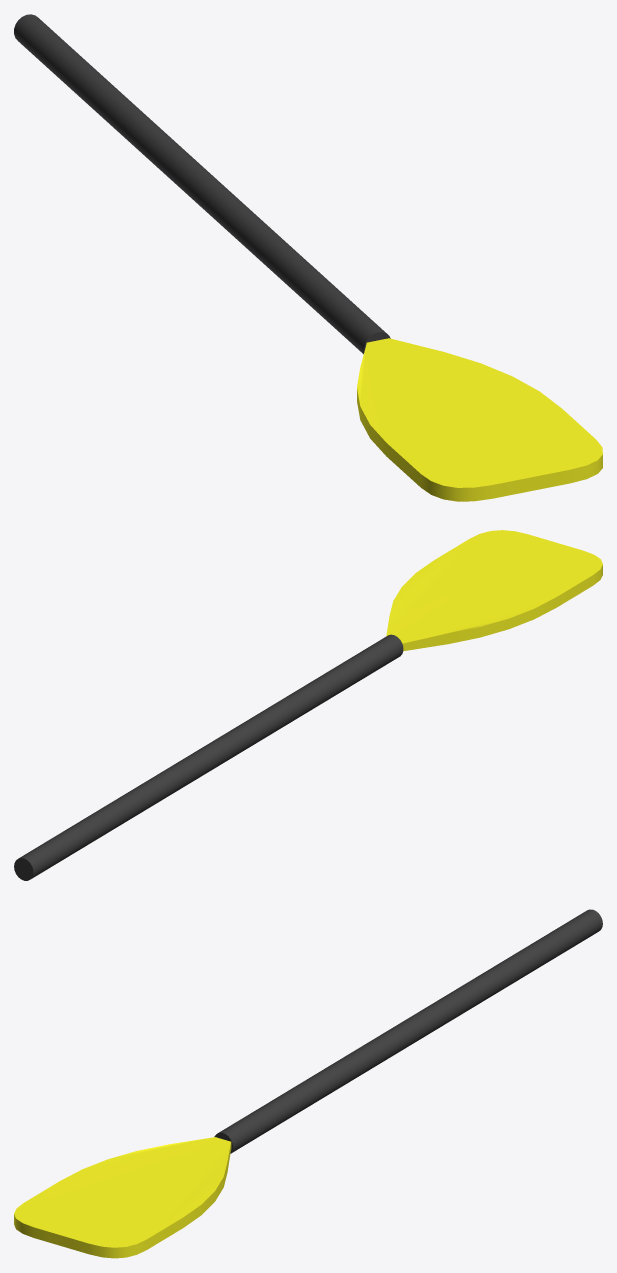
The model's file is oar.glb.
The picture shows the model from 3 angles, top to bottom: view 1: azimuth 30°, elevation 25°; view 2: azimuth 150°, elevation 25°; view 3: azimuth 330°, elevation 25°; orthographic projection. The views are drawn at different scales.
Parts seen in each view (by area): view 1: Box001, Cylinder001; view 2: Box001, Cylinder001; view 3: Box001, Cylinder001.
Part boxes in pixels (bbox=[...]): Box001: bbox=[357, 338, 602, 501]; Cylinder001: bbox=[14, 14, 390, 354]; Box001: bbox=[386, 530, 602, 651]; Cylinder001: bbox=[14, 634, 403, 880]; Box001: bbox=[14, 1137, 231, 1258]; Cylinder001: bbox=[214, 909, 602, 1153].
Size of the model in its own units: 134409 by 20151 by 760014.
